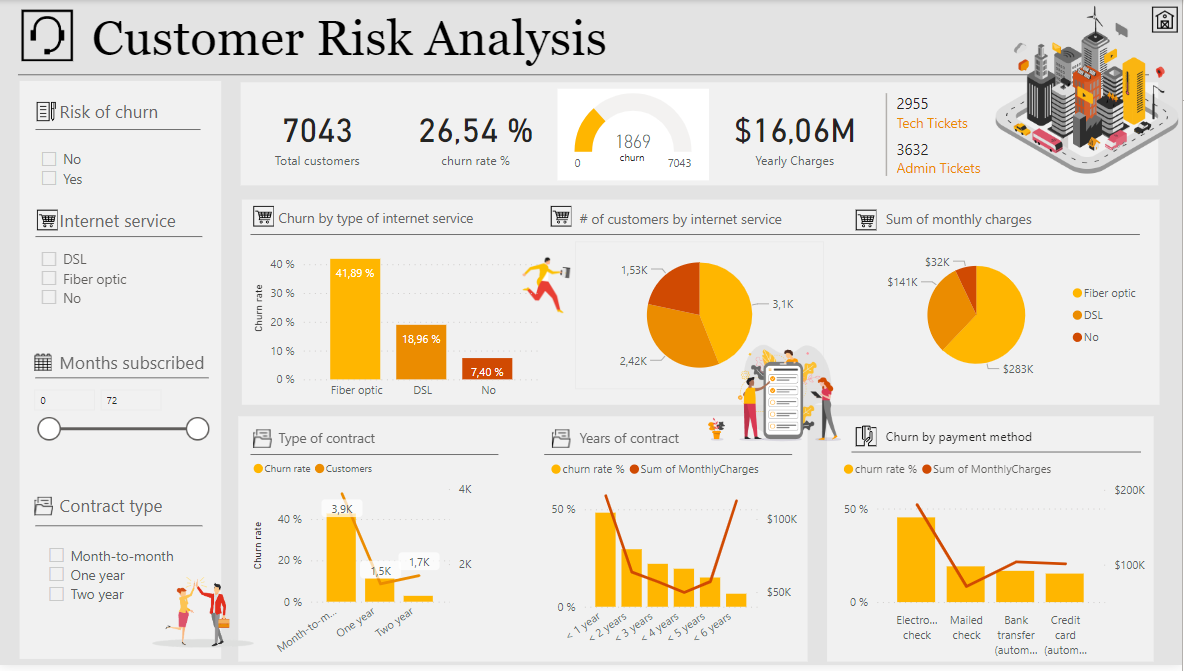

The dashboard page shown, as its layout file describes it:
{"tool":"powerbi","page":{"name":"Customer Risk Analysis","canvas":[1280,720],"ordinal":2},"visuals":[{"type":"basicShape","box":[249.8,87.8,1013.8,113.8],"z":0},{"type":"basicShape","box":[892.2,448.5,360.8,271],"z":1000},{"type":"basicShape","box":[251.8,448.5,628.9,271],"z":2000},{"type":"textbox","box":[94.5,4.8,1167.1,75.2],"z":3000},{"type":"basicShape","box":[9,61,1244.3,40.1],"z":4000},{"type":"basicShape","box":[251.8,214.2,1013.8,226.7],"z":5000},{"type":"basicShape","box":[18.3,81,222.8,638.6],"z":6000},{"type":"card","fields":{"Values":["Count(churn.customerID)"]},"box":[261.4,89,164.9,113.8],"z":7000},{"type":"gauge","fields":{"MaxValue":["CountNonNull(churn.customerID)"],"Y":["churn.Count of Churn for Yes"]},"box":[603.8,96.2,164,99.4],"z":8000},{"type":"slicer","fields":{"Values":["churn.Contract"]},"box":[40.5,584.5,178.4,79.1],"z":9000},{"type":"card","fields":{"Values":["Sum(churn.TotalCharges)"]},"box":[778.4,89,164.9,113.8],"z":10000},{"type":"slicer","fields":{"Values":["churn.Churn"]},"box":[31.8,156.3,173.6,57.9],"z":11000},{"type":"image","box":[557.5,242.1,66.6,129.3],"z":12000},{"type":"image","box":[150.5,610.6,136,105.1],"z":13000},{"type":"slicer","title":"Number of months subscribed","fields":{"Values":["churn.tenure"]},"box":[24.1,410.9,210.3,70.4],"z":14000},{"type":"image","box":[17.4,4.8,67.5,65.6],"z":15000},{"type":"textbox","box":[59.8,102.2,174.6,40.5],"z":16000},{"type":"basicShape","box":[28,120.6,198.7,39.5],"z":17000},{"type":"textbox","box":[59.8,374.3,185.2,39.5],"z":18000},{"type":"basicShape","box":[28,389.7,207.4,38.6],"z":19000},{"type":"basicShape","box":[28,549.8,200.6,39.5],"z":20000},{"type":"image","box":[31.8,374.3,28,34.7],"z":21000},{"type":"textbox","box":[59.8,529.6,159.2,40.5],"z":22000},{"type":"image","box":[31.8,105.1,34.7,30.9],"z":23000},{"type":"image","box":[31.8,524.7,29.9,45.3],"z":24000},{"type":"textbox","box":[59.8,221.2,180.4,40.5],"z":25000},{"type":"basicShape","box":[28,237,200.6,38.6],"z":26000},{"type":"slicer","fields":{"Values":["churn.InternetService"]},"box":[31.8,263.3,200.6,78.1],"z":27000},{"type":"card","fields":{"Values":["churn.churn rate %"]},"box":[437,89,156.3,113.8],"z":28000},{"type":"lineClusteredColumnComboChart","fields":{"Category":["churn.Contract"],"Y":["churn.churn rate %"],"Y2":["CountNonNull(churn.customerID)"]},"box":[269.1,489,246.9,230.5],"z":29000},{"type":"lineClusteredColumnComboChart","fields":{"Y":["churn.churn rate %"],"Y2":["Sum(churn.MonthlyCharges)"],"Category":["churn.Loyalty"]},"box":[591.3,489,276.8,230.5],"z":30000},{"type":"textbox","box":[296.1,220,300.9,40.5],"z":31000},{"type":"basicShape","box":[261.4,234.4,982.9,39.5],"z":32000},{"type":"clusteredColumnChart","fields":{"Category":["churn.InternetService"],"Y":["churn.churn rate %"]},"box":[269.1,242.1,322.2,198.7],"z":33000},{"type":"pieChart","fields":{"Y":["Sum(churn.MonthlyCharges)"],"Category":["churn.InternetService"]},"box":[949.1,264.3,295.2,154.3],"z":34000},{"type":"pieChart","fields":{"Category":["churn.InternetService"],"Y":["CountNonNull(churn.customerID)"]},"box":[622.2,261.4,270.1,160.1],"z":35000},{"type":"textbox","box":[954,221.9,283.6,40.5],"z":36000},{"type":"textbox","box":[622.2,221.9,285.5,40.5],"z":37000},{"type":"basicShape","box":[261.4,471.7,288.4,39.5],"z":38000},{"type":"textbox","box":[296.1,459.1,237.3,40.5],"z":39000},{"type":"textbox","box":[622.2,459.1,270.1,40.5],"z":40000},{"type":"basicShape","box":[579.7,471.7,288.4,39.5],"z":41000},{"type":"lineClusteredColumnComboChart","fields":{"Y":["churn.churn rate %"],"Y2":["Sum(churn.MonthlyCharges)"],"Category":["churn.PaymentMethod"]},"box":[907.7,489,336.6,230.5],"z":42000},{"type":"basicShape","box":[911.5,469.8,332.8,39.5],"z":43000},{"type":"textbox","box":[954.3,459.1,270.1,40.5],"z":44000},{"type":"multiRowCard","fields":{"Values":["Sum(churn.numTechTickets)","Sum(churn.numAdminTickets)"]},"box":[954,96.2,207.4,99.4],"z":45000},{"type":"image","box":[922.1,452.4,31.8,39.5],"z":46000},{"type":"image","box":[593.2,452.4,29.9,45.3],"z":47000},{"type":"image","box":[269.1,451.4,29.9,45.3],"z":48000},{"type":"image","box":[34.7,219.9,31.8,34.7],"z":49000},{"type":"image","box":[269.1,217,31.8,34.7],"z":50000},{"type":"image","box":[591.3,217,31.8,34.7],"z":51000},{"type":"image","box":[922.1,219.9,31.8,34.7],"z":52000},{"type":"textbox","box":[666.5,156.3,57.9,28.9],"z":53000},{"type":"image","box":[1072.6,0,207.4,193.9],"z":54000},{"type":"image","box":[1242,0,38,42.9],"z":55000},{"type":"image","box":[752.4,361.7,191,129.3],"z":56000}]}

Visuals, with their boxes in screenshot pixels (x1, y1, x2, y2), scaled from the page's 1280x720 canvas onto the 1184x671 screenshot:
basicShape: (x1=231, y1=82, x2=1169, y2=188)
basicShape: (x1=825, y1=418, x2=1159, y2=670)
basicShape: (x1=233, y1=418, x2=815, y2=670)
textbox: (x1=87, y1=4, x2=1167, y2=75)
basicShape: (x1=8, y1=57, x2=1159, y2=94)
basicShape: (x1=233, y1=200, x2=1171, y2=411)
basicShape: (x1=17, y1=75, x2=223, y2=670)
card - Count(churn.customerID): (x1=242, y1=83, x2=394, y2=189)
gauge - CountNonNull(churn.customerID) x churn.Count of Churn for Yes: (x1=559, y1=90, x2=710, y2=182)
slicer - churn.Contract: (x1=37, y1=545, x2=202, y2=618)
card - Sum(churn.TotalCharges): (x1=720, y1=83, x2=873, y2=189)
slicer - churn.Churn: (x1=29, y1=146, x2=190, y2=200)
image: (x1=516, y1=226, x2=577, y2=346)
image: (x1=139, y1=569, x2=265, y2=667)
"Number of months subscribed" slicer: (x1=22, y1=383, x2=217, y2=449)
image: (x1=16, y1=4, x2=79, y2=66)
textbox: (x1=55, y1=95, x2=217, y2=133)
basicShape: (x1=26, y1=112, x2=210, y2=149)
textbox: (x1=55, y1=349, x2=227, y2=386)
basicShape: (x1=26, y1=363, x2=218, y2=399)
basicShape: (x1=26, y1=512, x2=211, y2=549)
image: (x1=29, y1=349, x2=55, y2=381)
textbox: (x1=55, y1=494, x2=203, y2=531)
image: (x1=29, y1=98, x2=62, y2=127)
image: (x1=29, y1=489, x2=57, y2=531)
textbox: (x1=55, y1=206, x2=222, y2=244)
basicShape: (x1=26, y1=221, x2=211, y2=257)
slicer - churn.InternetService: (x1=29, y1=245, x2=215, y2=318)
card - churn.churn rate %: (x1=404, y1=83, x2=549, y2=189)
lineClusteredColumnComboChart - churn.Contract x churn.churn rate %: (x1=249, y1=456, x2=477, y2=670)
lineClusteredColumnComboChart - churn.churn rate % x Sum(churn.MonthlyCharges): (x1=547, y1=456, x2=803, y2=670)
textbox: (x1=274, y1=205, x2=552, y2=243)
basicShape: (x1=242, y1=218, x2=1151, y2=255)
clusteredColumnChart - churn.InternetService x churn.churn rate %: (x1=249, y1=226, x2=547, y2=411)
pieChart - Sum(churn.MonthlyCharges) x churn.InternetService: (x1=878, y1=246, x2=1151, y2=390)
pieChart - churn.InternetService x CountNonNull(churn.customerID): (x1=576, y1=244, x2=825, y2=393)
textbox: (x1=882, y1=207, x2=1145, y2=245)
textbox: (x1=576, y1=207, x2=840, y2=245)
basicShape: (x1=242, y1=440, x2=509, y2=476)
textbox: (x1=274, y1=428, x2=493, y2=466)
textbox: (x1=576, y1=428, x2=825, y2=466)
basicShape: (x1=536, y1=440, x2=803, y2=476)
lineClusteredColumnComboChart - churn.churn rate % x Sum(churn.MonthlyCharges): (x1=840, y1=456, x2=1151, y2=670)
basicShape: (x1=843, y1=438, x2=1151, y2=475)
textbox: (x1=883, y1=428, x2=1133, y2=466)
multiRowCard - Sum(churn.numTechTickets) x Sum(churn.numAdminTickets): (x1=882, y1=90, x2=1074, y2=182)
image: (x1=853, y1=422, x2=882, y2=458)
image: (x1=549, y1=422, x2=576, y2=464)
image: (x1=249, y1=421, x2=277, y2=463)
image: (x1=32, y1=205, x2=62, y2=237)
image: (x1=249, y1=202, x2=278, y2=235)
image: (x1=547, y1=202, x2=576, y2=235)
image: (x1=853, y1=205, x2=882, y2=237)
textbox: (x1=617, y1=146, x2=670, y2=173)
image: (x1=992, y1=0, x2=1183, y2=181)
image: (x1=1149, y1=0, x2=1183, y2=40)
image: (x1=696, y1=337, x2=873, y2=458)
